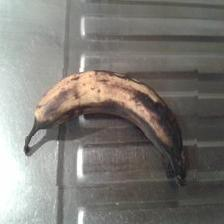Banana Rotten: (26, 68, 199, 186)
